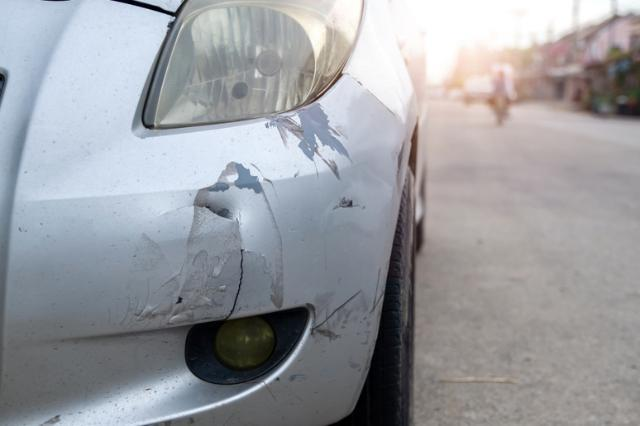Bumper: (0, 71, 429, 419)
